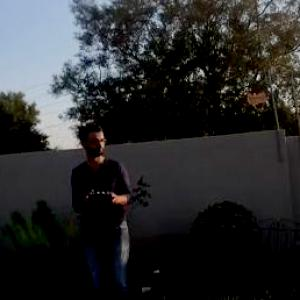follow: (66, 120, 138, 299)
